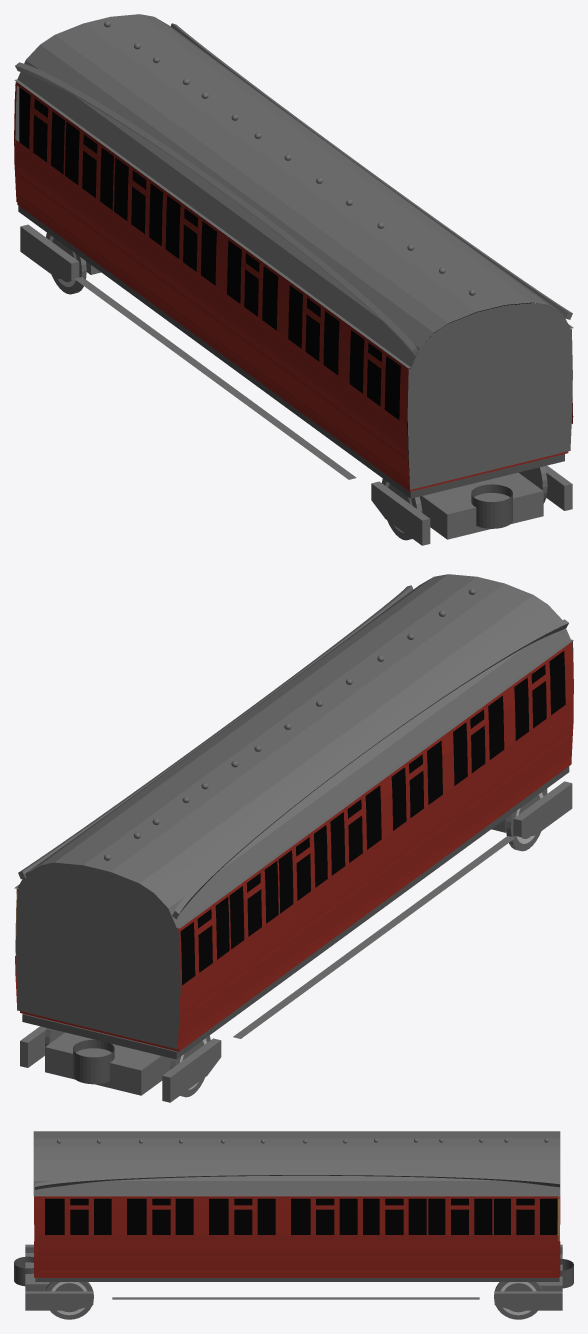
File: lner-quad-art-f-com-carmine.dae
The picture shows the model from 3 angles, top to bottom: view 1: azimuth 30°, elevation 25°; view 2: azimuth 150°, elevation 25°; view 3: azimuth 270°, elevation 25°; orthographic projection. The views are drawn at different scales.
Parts seen in each view (by area): view 1: Plane_083, Plane_001, Plane_359, Plane_002, Plane_019, Cube, Plane_010, Plane_007, Plane_004, Cube_029, Plane_012, Cube_001 (+2 smaller); view 2: Plane_083, Plane_006, Plane_359, Plane_002, Plane_019, Cube_001, Plane_010, Plane_007, Plane_004, Cube_029, Plane_012, Cube (+2 smaller); view 3: Plane_002, Plane_359, Plane_019, Plane_009, Plane_083, Plane_016, Cube, Cube_001, Cube_028, Plane_007, Plane_008, Plane_012.
Part boxes in pixels (left/top/right/bottom): Plane_083: left=14, top=20, right=490, bottom=368; Plane_001: left=407, top=303, right=572, bottom=489; Plane_359: left=14, top=82, right=572, bottom=489; Plane_002: left=98, top=14, right=573, bottom=328; Plane_019: left=19, top=87, right=531, bottom=478; Cube: left=371, top=465, right=572, bottom=545; Plane_010: left=163, top=191, right=408, bottom=435; Plane_007: left=18, top=206, right=564, bottom=498; Plane_004: left=15, top=92, right=164, bottom=256; Cube_029: left=15, top=62, right=418, bottom=355; Plane_012: left=17, top=198, right=568, bottom=491; Cube_001: left=20, top=224, right=101, bottom=294; Plane_083: left=96, top=580, right=573, bottom=928; Plane_006: left=16, top=862, right=180, bottom=1049; Plane_359: left=15, top=642, right=573, bottom=1049; Plane_002: left=14, top=574, right=490, bottom=888; Plane_019: left=180, top=651, right=565, bottom=985; Cube_001: left=20, top=1026, right=221, bottom=1102; Plane_010: left=327, top=642, right=573, bottom=886; Plane_007: left=22, top=766, right=569, bottom=1059; Plane_004: left=182, top=821, right=329, bottom=994; Cube_029: left=172, top=619, right=568, bottom=919; Plane_012: left=20, top=758, right=571, bottom=1051; Cube: left=491, top=781, right=572, bottom=851; Plane_002: left=33, top=1142, right=560, bottom=1196; Plane_359: left=34, top=1196, right=560, bottom=1276; Plane_019: left=45, top=1198, right=557, bottom=1234; Plane_009: left=34, top=1196, right=360, bottom=1241; Plane_083: left=33, top=1131, right=560, bottom=1142; Plane_016: left=361, top=1196, right=558, bottom=1241; Cube: left=14, top=1244, right=93, bottom=1319; Cube_001: left=494, top=1244, right=573, bottom=1319; Cube_028: left=35, top=1172, right=559, bottom=1189; Plane_007: left=35, top=1277, right=559, bottom=1281; Plane_008: left=112, top=1297, right=479, bottom=1299; Plane_012: left=34, top=1221, right=558, bottom=1277.
Size of the model in its own units: 2.08 by 9.05 by 2.85.
